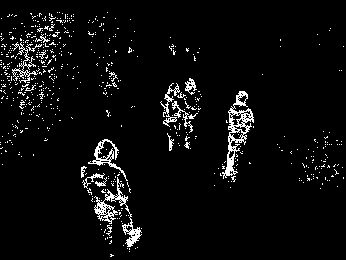person: (79, 138, 143, 257), (222, 89, 255, 182), (177, 76, 202, 150), (162, 81, 183, 153)
